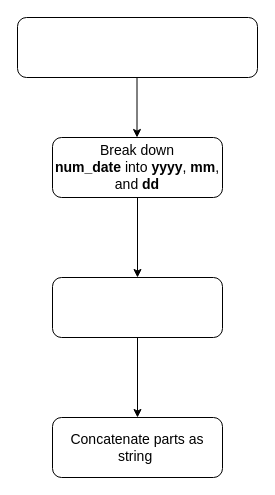
Image size: 275x495. Some labels were removed from this diagram. Each missing label, with the centre of its shape:
"Convert mm into a 3-letter string" belongs at point (137, 307).
"Convert YYYYMMMDD to 'Mon dd, yyyy' (20210913 -> 'Sep 13, 2021'" belongs at point (137, 47).
